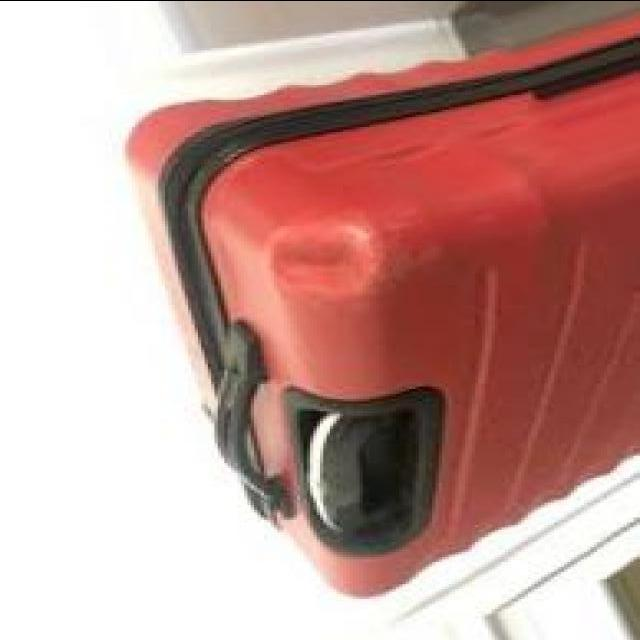Damage-bag: (264, 220, 384, 300)
